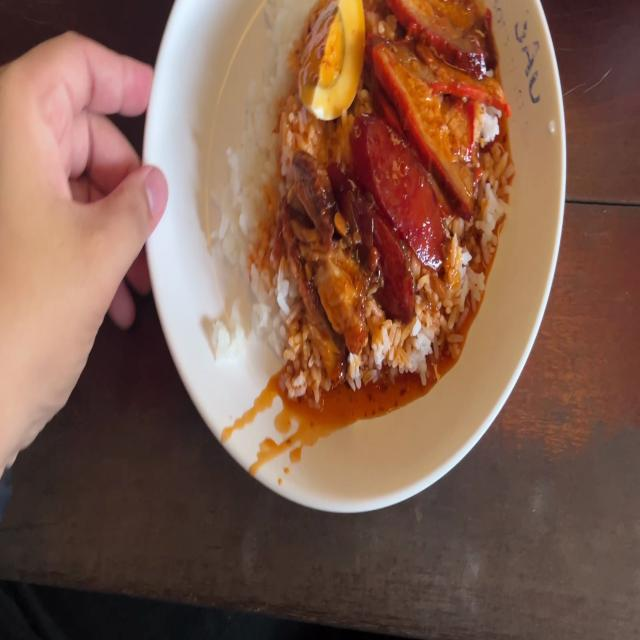red_pork_and_crispy_pork: (299, 2, 358, 116)
stir_fried_basil: (351, 120, 434, 306)
